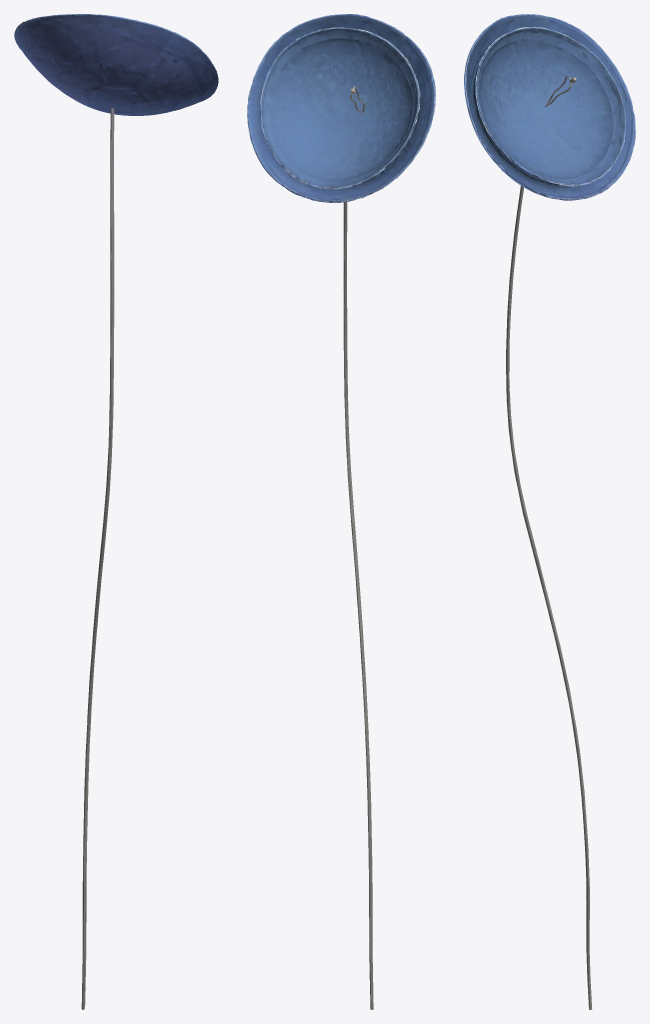
Rendered from 11_6_hamu_cnk_mvi.glb.
3 views of the same model, side by side, from view 1: azimuth 30°, elevation 25°; view 2: azimuth 210°, elevation 25°; view 3: azimuth 270°, elevation 25° (orthographic). The views are drawn at different scales.
Parts seen in each view (by area): view 1: tripo_node_22387682-e46e-41e9-b20e-e7e9c88a6d92.001; view 2: tripo_node_22387682-e46e-41e9-b20e-e7e9c88a6d92.001; view 3: tripo_node_22387682-e46e-41e9-b20e-e7e9c88a6d92.001.
Boxes of the visible parts, x1,y1,x2,y2 form: tripo_node_22387682-e46e-41e9-b20e-e7e9c88a6d92.001: (14, 14, 218, 1009); tripo_node_22387682-e46e-41e9-b20e-e7e9c88a6d92.001: (247, 14, 435, 1009); tripo_node_22387682-e46e-41e9-b20e-e7e9c88a6d92.001: (464, 14, 635, 1009).
Bounding box in the file's own units: 0.0794 × 0.513 × 0.0818.
1 material, 1 textured.
